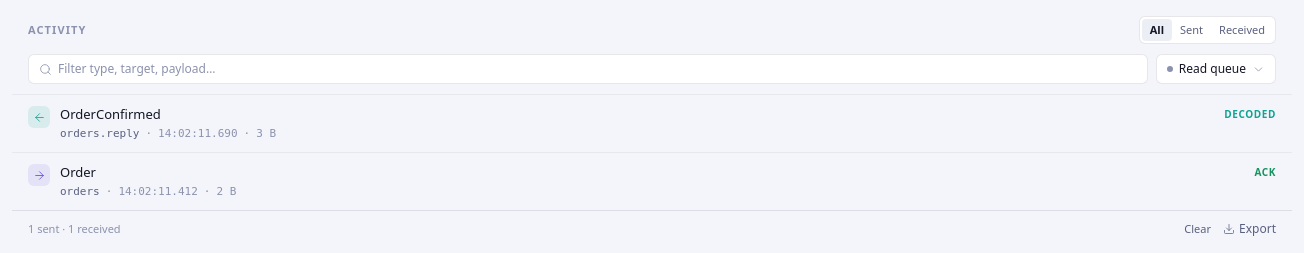
timeline › the segmented filter narrows to sent and to received
This screenshot has width=1304, height=253.
Click the radio button labelled "Sent".
click(1192, 30)  # box [1172,19,1211,41]
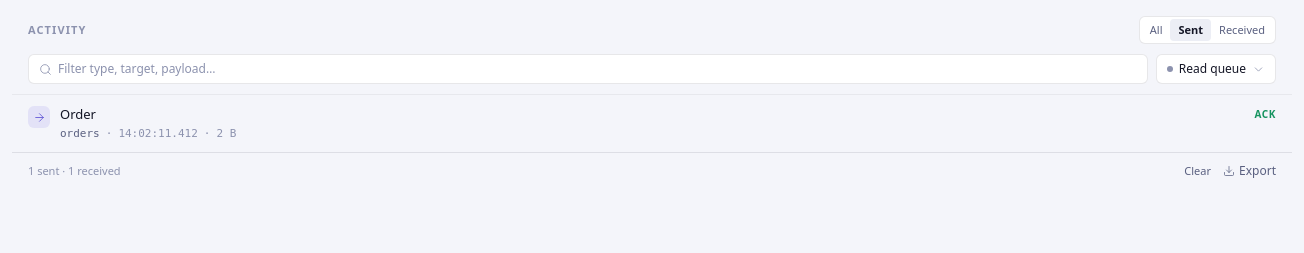
Expected: the text "Order" is shown, [60,105,96,123]
Expected: the button "OrderConfirmed" is gone
Click the radio button labelled "Received".
click(1242, 30)  # box [1211,19,1273,41]
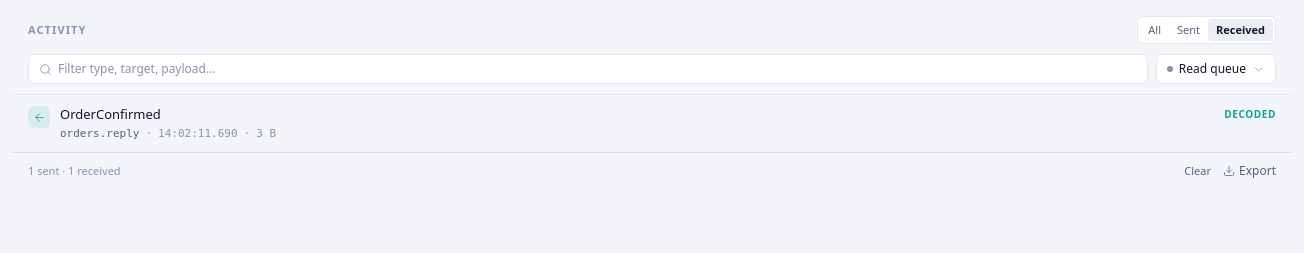
Expected: the text "OrderConfirmed" is shown, [60,105,161,123]
